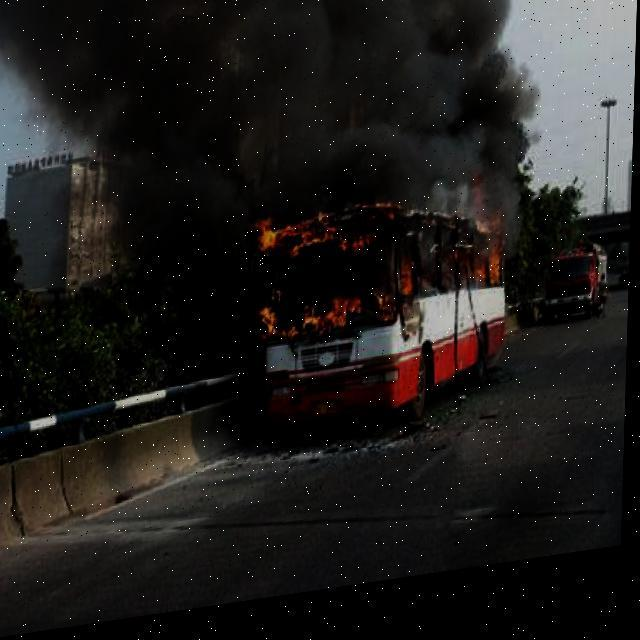Fire: (250, 182, 514, 358)
